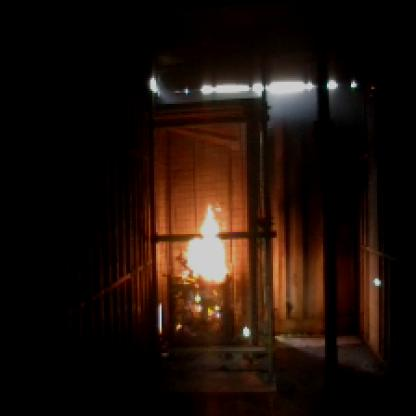Fire: (162, 176, 250, 346)
